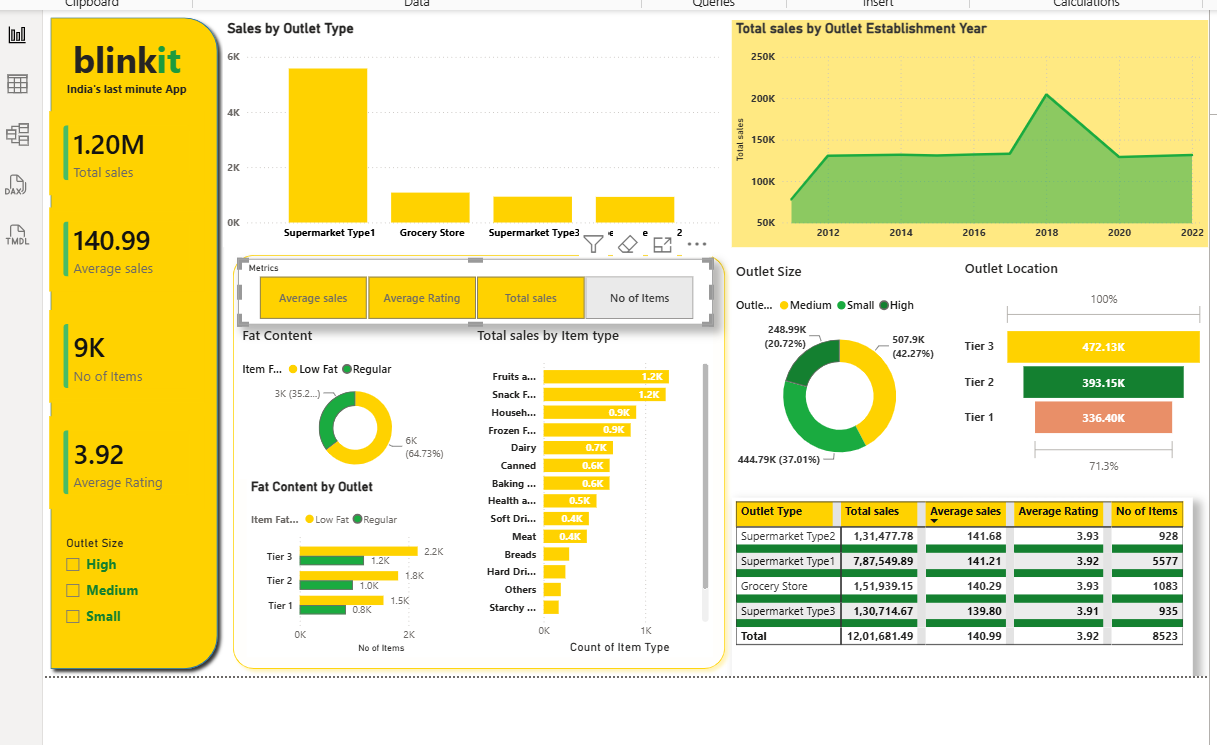

What the dashboard file says about the page in this screenshot:
{"tool":"powerbi","page":{"name":"Page 2","canvas":[1400,800],"ordinal":0},"visuals":[{"type":"shape","box":[0,0,218.8,800.3],"z":0},{"type":"textbox","box":[0,24.5,201.1,137.2],"z":1000},{"type":"shape","box":[218.8,285.3,608.7,514.9],"z":3000},{"type":"donutChart","title":"Fat Content","fields":{"Category":["BlinkIT Grocery Data (2).Item Fat Content"],"Y":["BlinkIT Grocery Data (2).Average sales"]},"box":[234.1,378.2,282.2,184.6],"z":4000},{"type":"slicer","fields":{"Values":["Metrics.Metrics"]},"box":[233.7,298.9,570.7,78.8],"z":5000},{"type":"clusteredBarChart","title":"Fat Content by Outlet","fields":{"Category":["BlinkIT Grocery Data (2).Outlet Location Type"],"Series":["BlinkIT Grocery Data (2).Item Fat Content"],"Y":["BlinkIT Grocery Data (2).Average sales"]},"box":[244.6,562.5,271.7,214.7],"z":6000},{"type":"barChart","title":"Total sales by Item type","fields":{"Category":["BlinkIT Grocery Data (2).Item Type"],"Y":["CountNonNull(BlinkIT Grocery Data (2).Item Type)"]},"box":[516.3,378.2,288.2,399.2],"z":7000},{"type":"lineChart","fields":{"Category":["BlinkIT Grocery Data (2).Outlet Establishment Year"],"Y":["BlinkIT Grocery Data (2).Total sales"]},"box":[827,12,571.8,273.2],"z":8000},{"type":"donutChart","title":" Outlet Size","fields":{"Category":["BlinkIT Grocery Data (2).Outlet Size"],"Y":["BlinkIT Grocery Data (2).Total sales"]},"box":[827.5,301.6,259.5,260.9],"z":9000},{"type":"funnel","title":" Outlet Location ","fields":{"Category":["BlinkIT Grocery Data (2).Outlet Location Type"],"Y":["BlinkIT Grocery Data (2).Total sales"]},"box":[1101.9,298.9,297.6,263.6],"z":10000},{"type":"pivotTable","fields":{"Rows":["BlinkIT Grocery Data (2).Outlet Type"],"Values":["BlinkIT Grocery Data (2).Total sales","BlinkIT Grocery Data (2).Average sales","BlinkIT Grocery Data (2).Average Rating","BlinkIT Grocery Data (2).No of Items"]},"box":[827,585.3,553.8,214.6],"z":11000},{"type":"slicer","fields":{"Values":["BlinkIT Grocery Data (2).Outlet Size"]},"box":[15,625.9,186.1,133.6],"z":12000},{"type":"cardVisual","fields":{"Data":["BlinkIT Grocery Data (2).Total sales"]},"box":[7.5,121.6,186.1,100.6],"z":13000},{"type":"cardVisual","fields":{"Data":["BlinkIT Grocery Data (2).Average sales"]},"box":[7.5,237.1,186.1,100.6],"z":14000},{"type":"cardVisual","fields":{"Data":["BlinkIT Grocery Data (2).No of Items"]},"box":[7.5,360.2,186.1,111.1],"z":15000},{"type":"cardVisual","fields":{"Data":["BlinkIT Grocery Data (2).Average Rating"]},"box":[7.5,487.8,186.1,111.1],"z":16000},{"type":"columnChart","title":" Sales by Outlet Type","fields":{"Category":["BlinkIT Grocery Data (2).Outlet Type"],"Y":["CountNonNull(BlinkIT Grocery Data (2).Sales)"]},"box":[216.1,12,600.3,273.2],"z":17000}]}

Visuals, with their boxes on the page's 1400x800 design canvas (x1, y1, x2, y2). These are canvas units, not pixel positions in the 1217x745 screenshot, which may show the page scaled, cropped or inside an application window:
shape: [0,0,219,800]
textbox: [0,24,201,162]
shape: [219,285,828,800]
"Fat Content" donutChart: [234,378,516,563]
slicer - Metrics.Metrics: [234,299,804,378]
"Fat Content by Outlet" clusteredBarChart: [245,562,516,777]
"Total sales by Item type" barChart: [516,378,804,777]
lineChart - BlinkIT Grocery Data (2).Outlet Establishment Year x BlinkIT Grocery Data (2).Total sales: [827,12,1399,285]
" Outlet Size" donutChart: [828,302,1087,562]
" Outlet Location " funnel: [1102,299,1400,562]
pivotTable - BlinkIT Grocery Data (2).Outlet Type x BlinkIT Grocery Data (2).Total sales: [827,585,1381,800]
slicer - BlinkIT Grocery Data (2).Outlet Size: [15,626,201,760]
cardVisual - BlinkIT Grocery Data (2).Total sales: [8,122,194,222]
cardVisual - BlinkIT Grocery Data (2).Average sales: [8,237,194,338]
cardVisual - BlinkIT Grocery Data (2).No of Items: [8,360,194,471]
cardVisual - BlinkIT Grocery Data (2).Average Rating: [8,488,194,599]
" Sales by Outlet Type" columnChart: [216,12,816,285]
